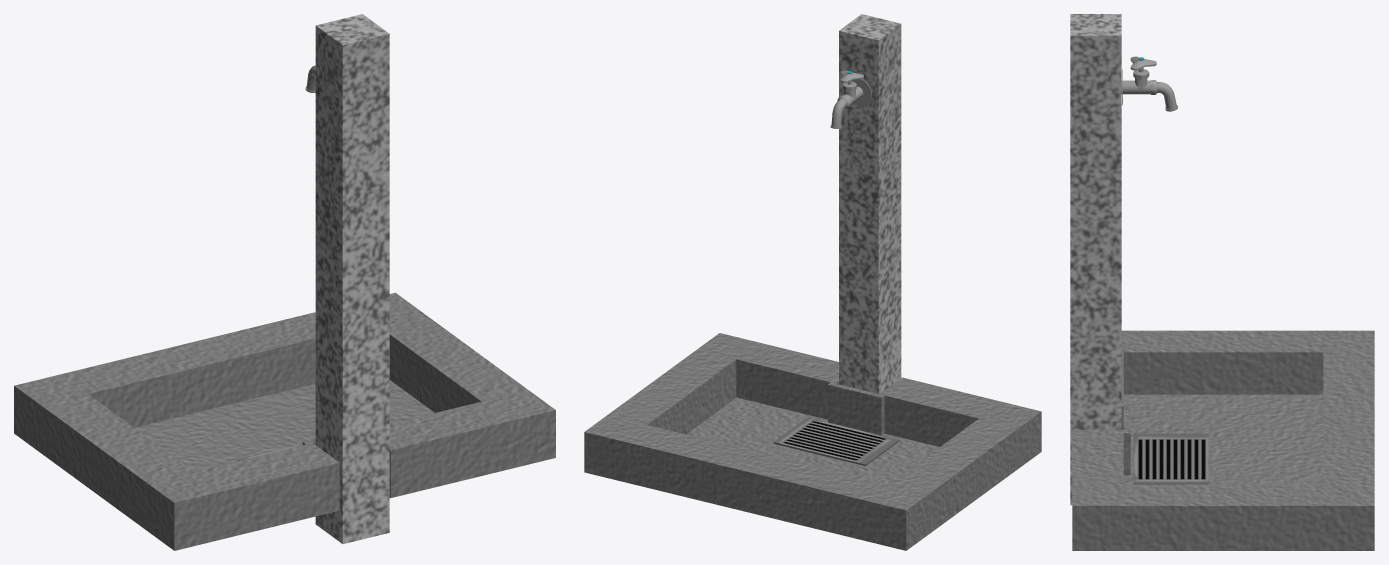
Rendered from standingfaucet.fbx.
3 renders of one model, left to right at view 1: azimuth 30°, elevation 25°; view 2: azimuth 150°, elevation 25°; view 3: azimuth 270°, elevation 25°, orthographic. The views are drawn at different scales.
Visible parts, largest first — view 1: 水受け, 立水栓; view 2: 水受け, 立水栓, 排水口, 蛇口; view 3: 水受け, 立水栓, 排水口, 蛇口.
Boxes of the visible parts, bbox=[...] form: 水受け: bbox=[14, 292, 555, 550]; 立水栓: bbox=[315, 14, 389, 543]; 水受け: bbox=[584, 333, 1041, 550]; 立水栓: bbox=[839, 14, 901, 393]; 排水口: bbox=[773, 417, 899, 465]; 蛇口: bbox=[830, 70, 872, 128]; 水受け: bbox=[1072, 330, 1374, 550]; 立水栓: bbox=[1070, 14, 1121, 505]; 排水口: bbox=[1133, 433, 1208, 484]; 蛇口: bbox=[1121, 56, 1177, 111].
Size of the model in its own units: 60 by 75 by 44.
